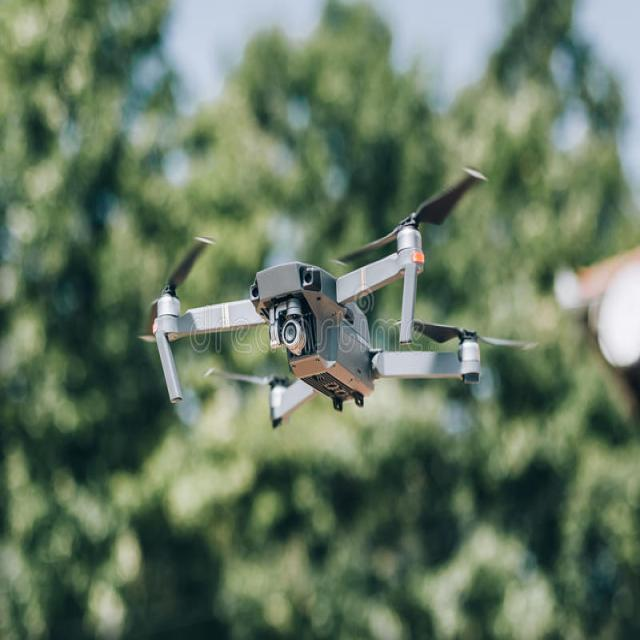drone: (136, 163, 539, 430)
